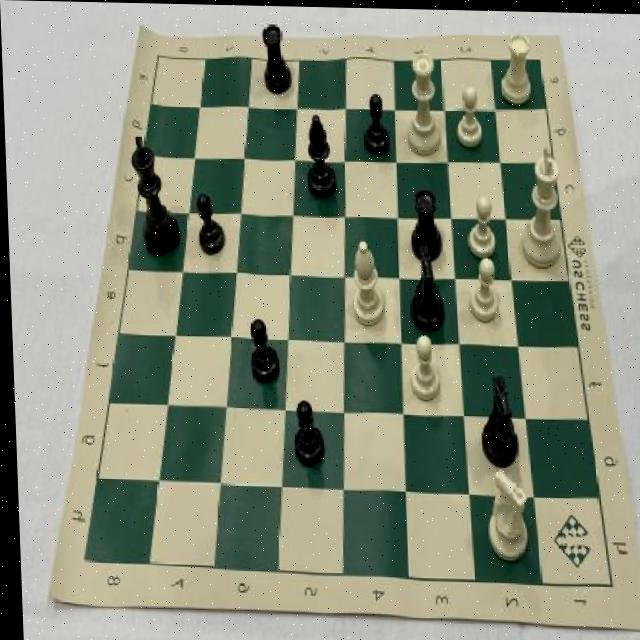bishop: (298, 107, 340, 207)
black-bishop: (124, 124, 185, 262)
black-king: (473, 367, 518, 470), (403, 238, 450, 335)
black-knight: (242, 310, 280, 389), (284, 394, 323, 470), (360, 88, 395, 157), (191, 188, 226, 256)
black-queen: (401, 182, 443, 270), (257, 20, 294, 102)
black-rook: (344, 231, 390, 333)
white-bishop: (513, 130, 568, 274)
white-king: (472, 462, 532, 565)
white-knight: (401, 324, 445, 403), (462, 251, 503, 323), (464, 190, 503, 260), (450, 83, 486, 154)
white-pawn: (399, 42, 441, 160)
white-queen: (497, 24, 538, 109)
